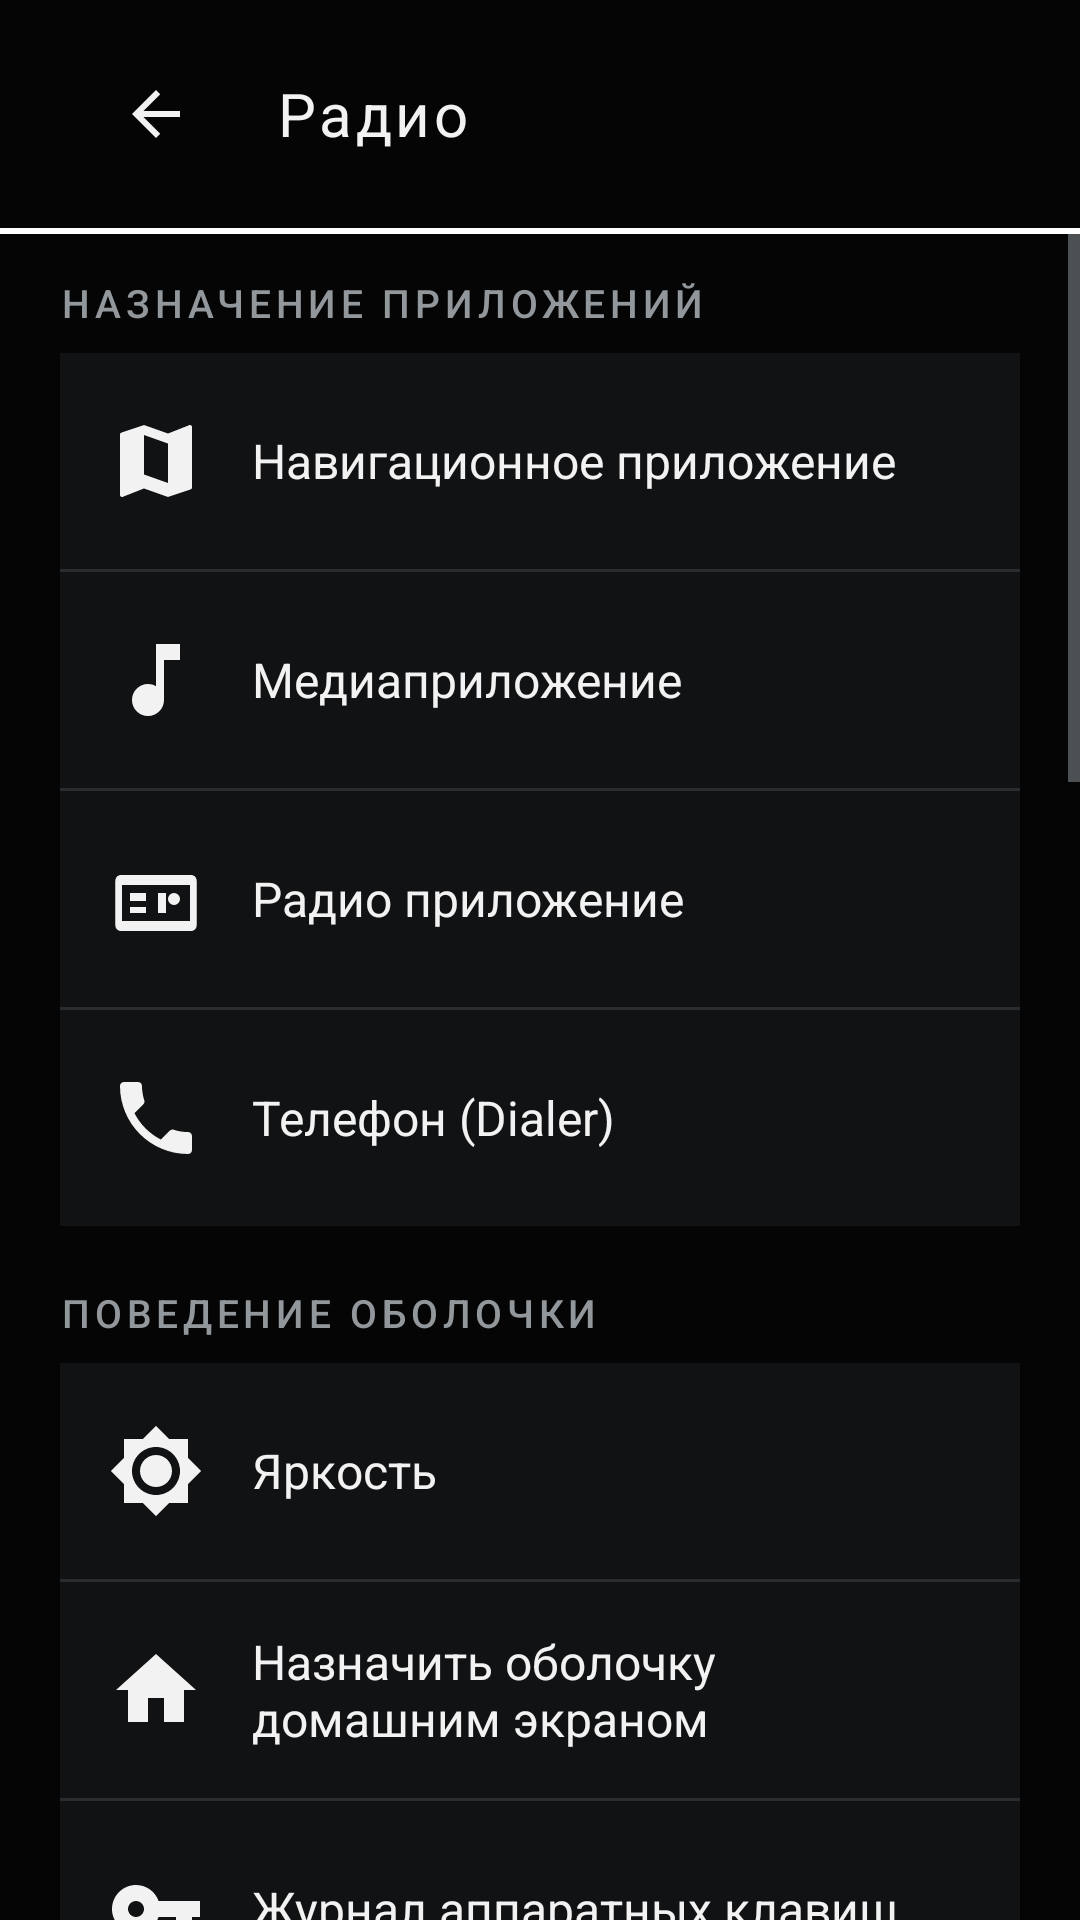

Point at icon controls on the screen. Image size 1080*1920, points as point (x, y).
brightness: point (156, 1471)
home: point (156, 1688)
media: point (156, 680)
nav: point (156, 461)
phone: point (156, 1118)
radio: point (156, 903)
Назад: point (156, 114)
